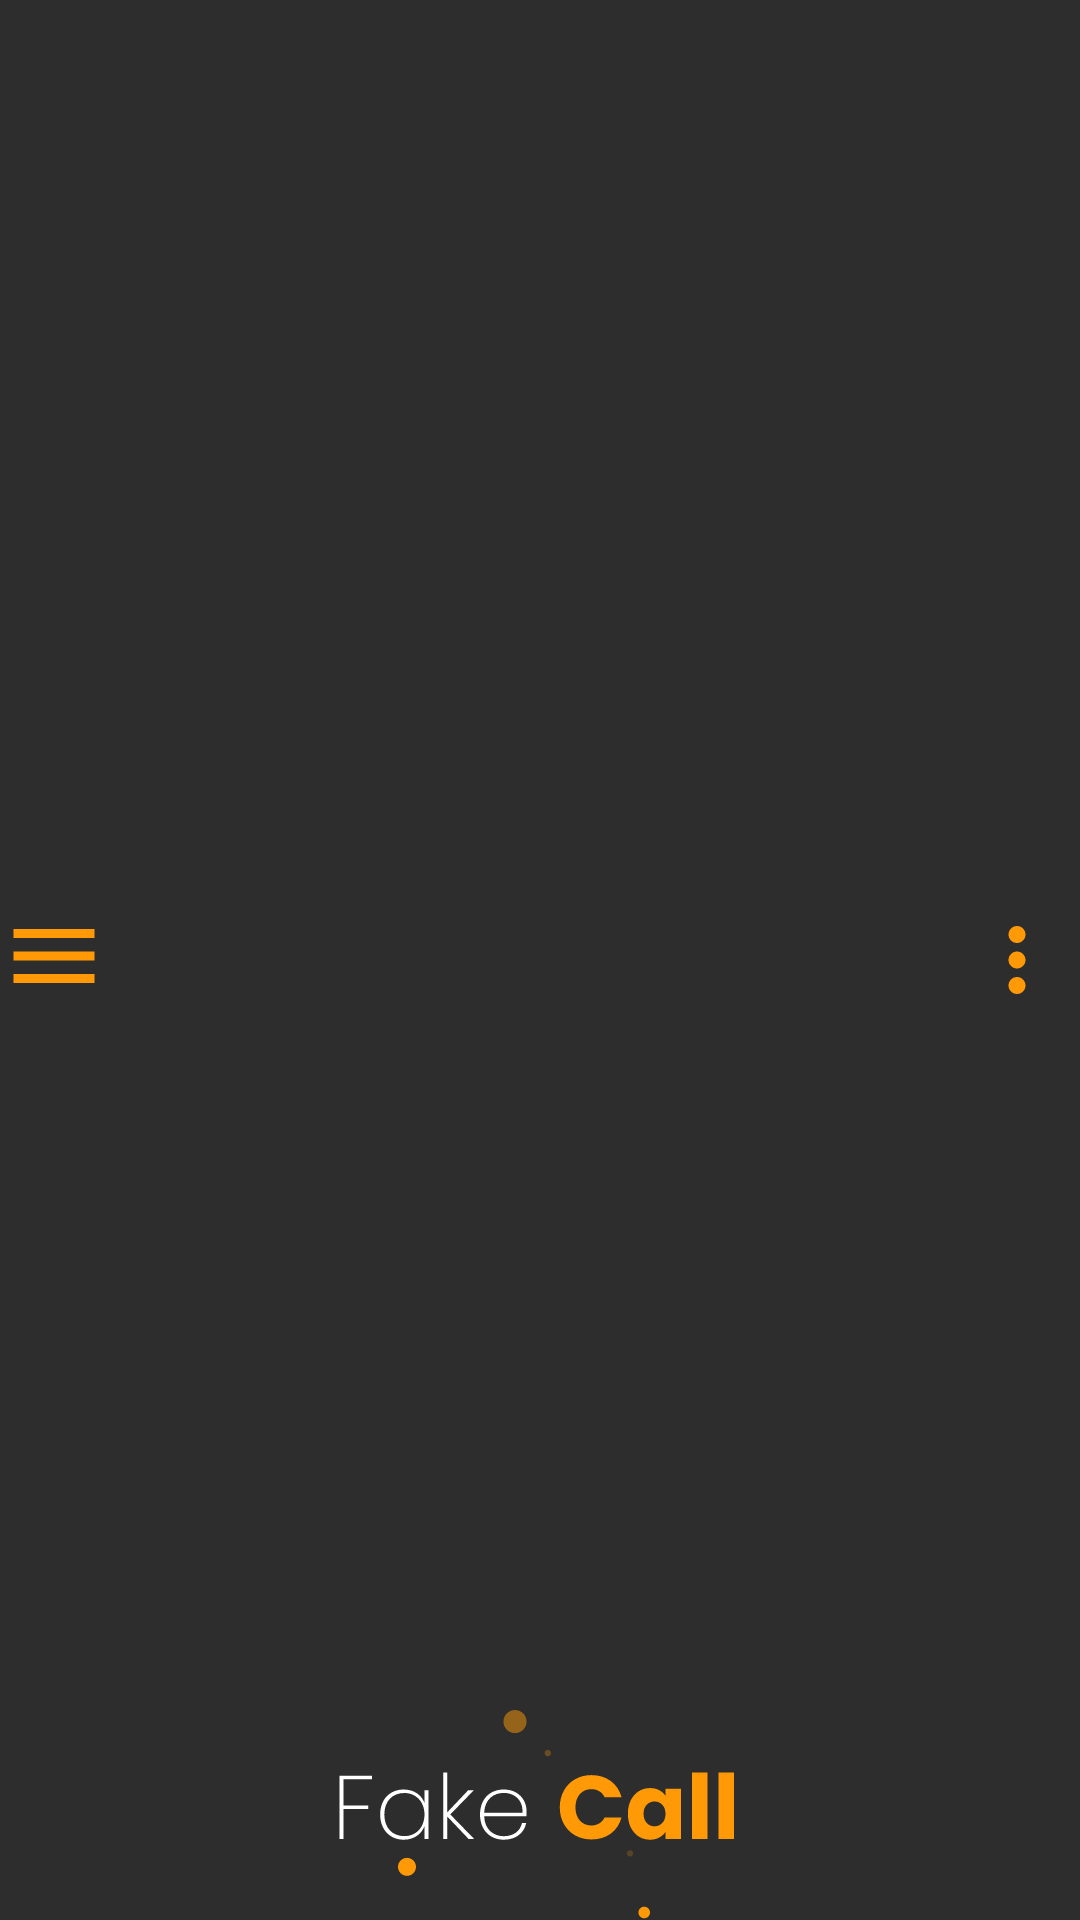

Screen size 1080 × 1920. Icon name, then its center in pixels as (x,y):
menu: (54,956)
more vert: (1017,960)
